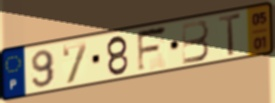7: (61, 40, 89, 86)
8: (105, 34, 129, 77)
9: (30, 47, 57, 89)
B: (180, 19, 211, 66)
F: (136, 24, 170, 75)
T: (217, 11, 244, 58)
